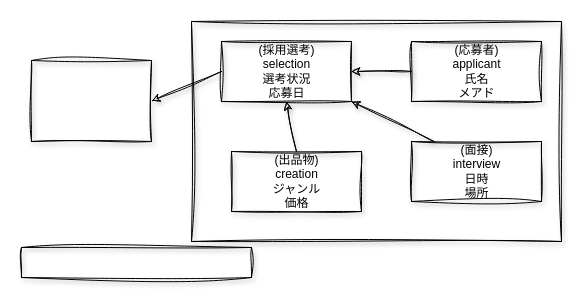
This 585x302 diagram has some shape labels left out. Here are the shapes that lost their labels. From the top down, the centre of each, then its label:
At point (92, 102): "コミケ participation 開催日 募集状況 サークル数".
At point (137, 263): "※本来のシステムとまったく異なります".
